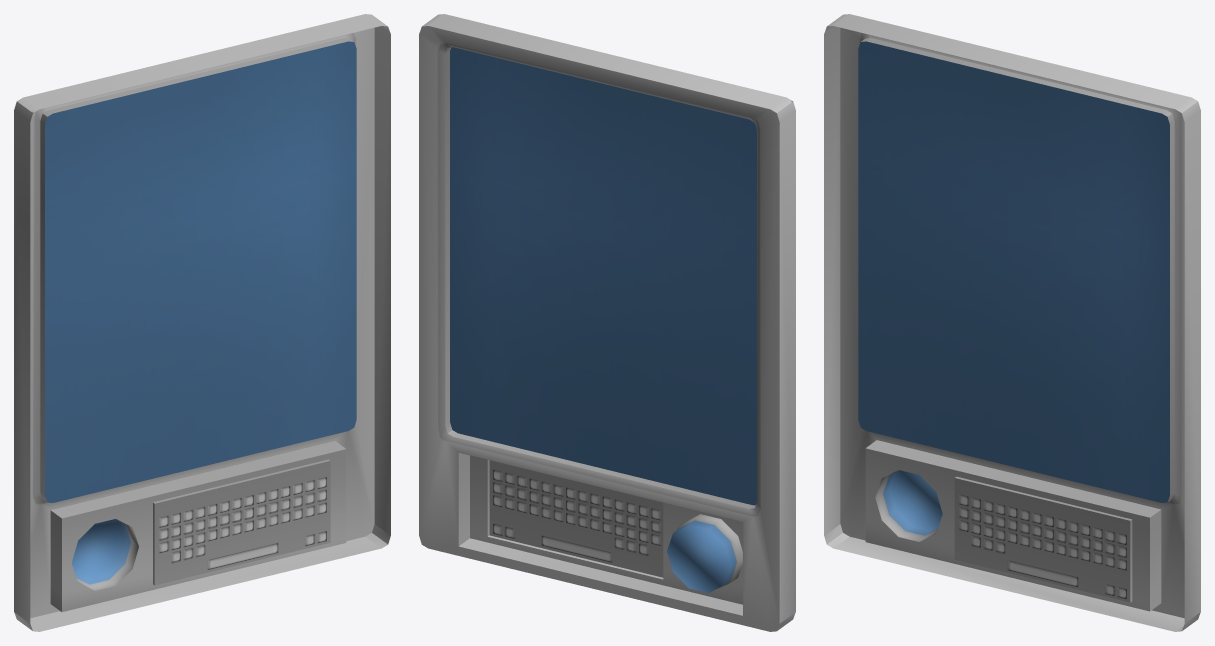
Rendered from ControlPannel.FBX.
The picture shows the model from 3 angles, left to right: view 1: azimuth 30°, elevation 25°; view 2: azimuth 150°, elevation 25°; view 3: azimuth 330°, elevation 25°; orthographic projection.
Visible parts, largest first — view 1: Monitor, ControlPannel; view 2: Monitor, ControlPannel; view 3: Monitor, ControlPannel.
Part boxes in pixels (x1,y1,x2,y2): Monitor: [45, 41, 356, 502]; ControlPannel: [14, 14, 390, 631]; Monitor: [450, 47, 756, 505]; ControlPannel: [419, 14, 795, 631]; Monitor: [858, 41, 1169, 502]; ControlPannel: [824, 14, 1200, 631].
Bounding box in the file's own units: 39.99 × 55.42 × 3.29.
Materials: 1 (1 with a texture image).
